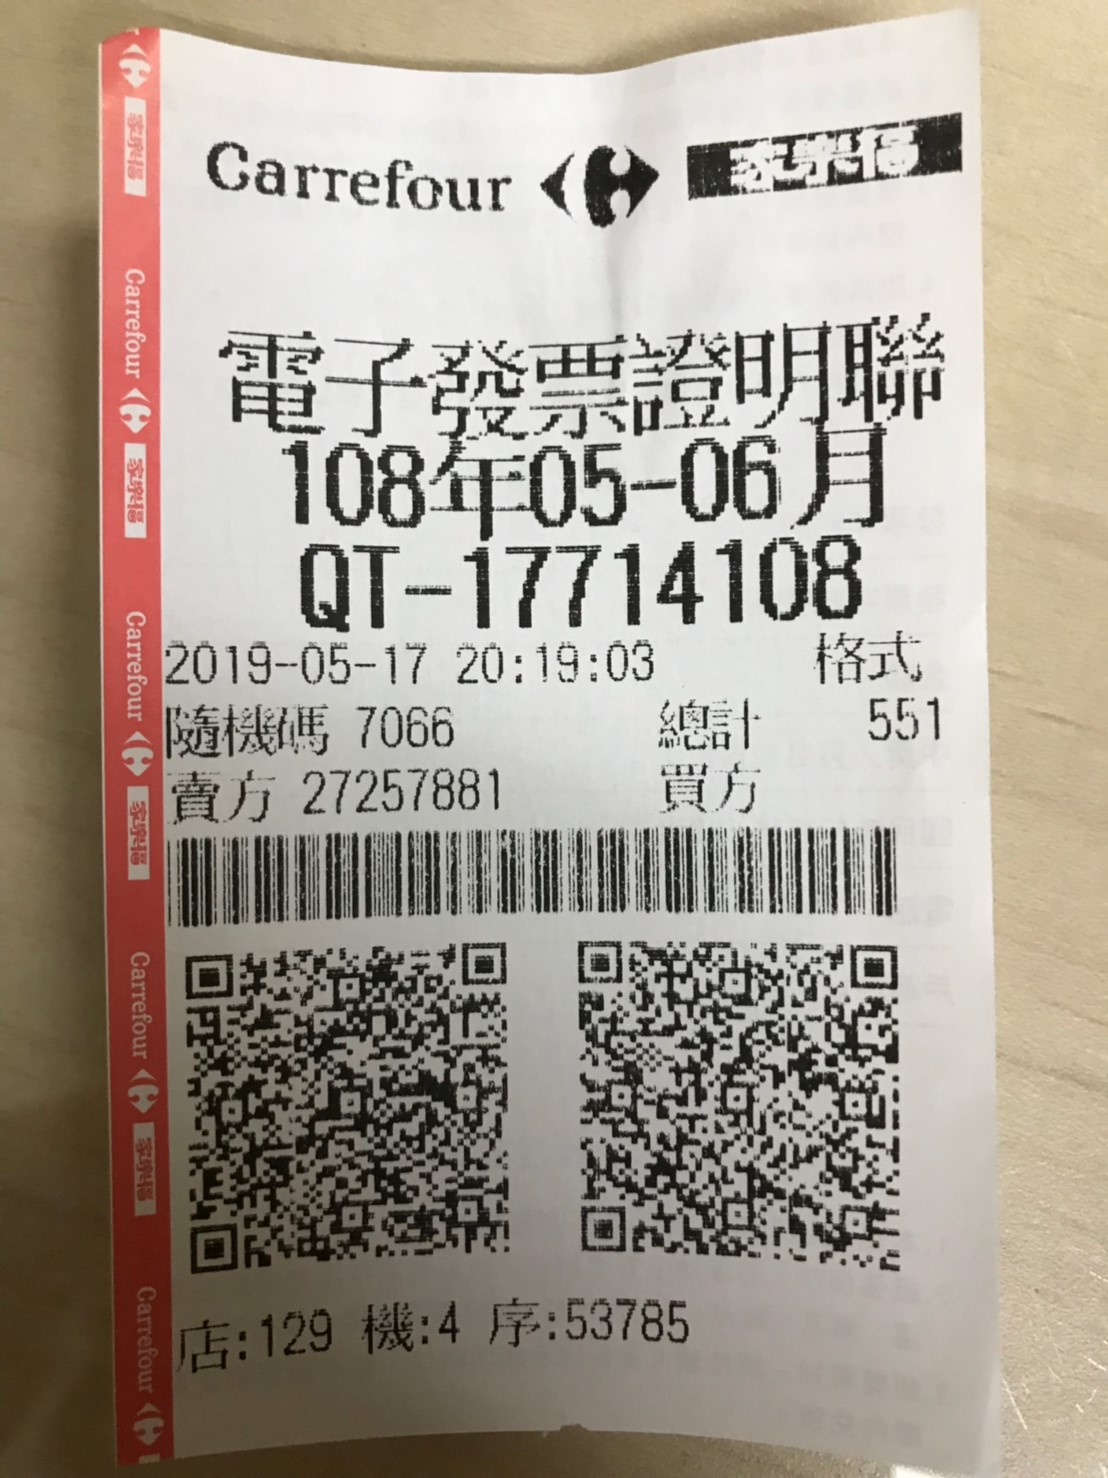Date_New: (277, 422, 887, 533)
Number_New: (463, 527, 871, 632)
